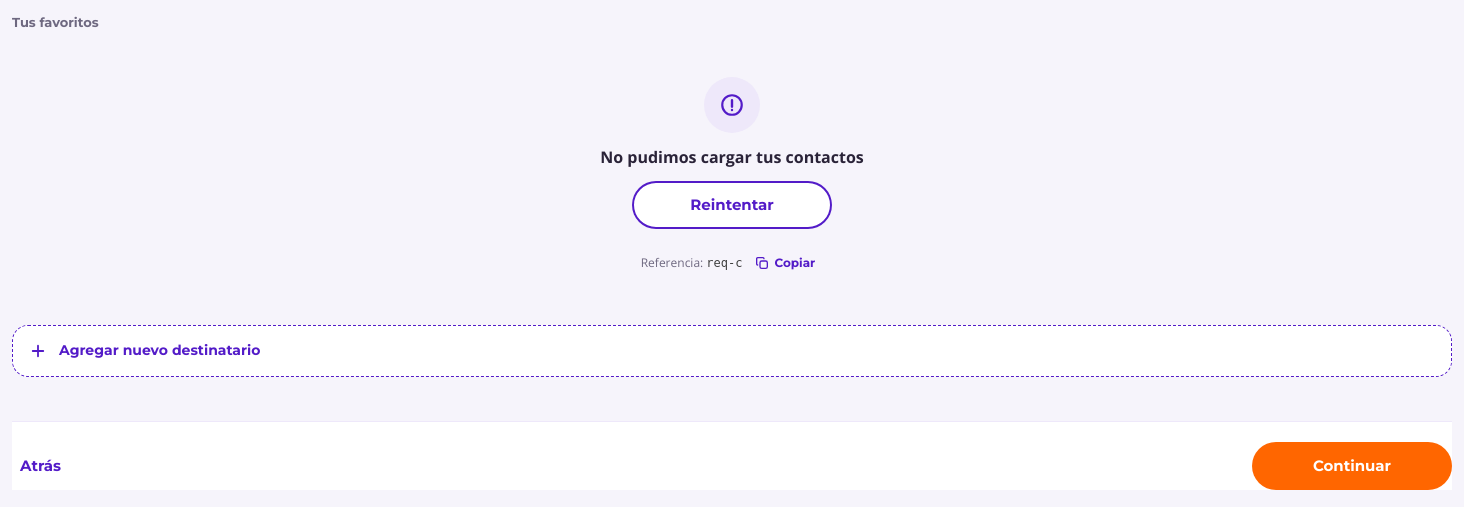
Scenario: RecipientStep › shows the error with its reference and loads the list on retry
Expected: the message shows "No pudimos cargar tus contactos", left=600, top=146, right=864, bottom=168
Expected: the message shows "Referencia: req-c", left=600, top=76, right=864, bottom=284
Click the button "Reintentar" at (732, 204), box left=632, top=180, right=832, bottom=228
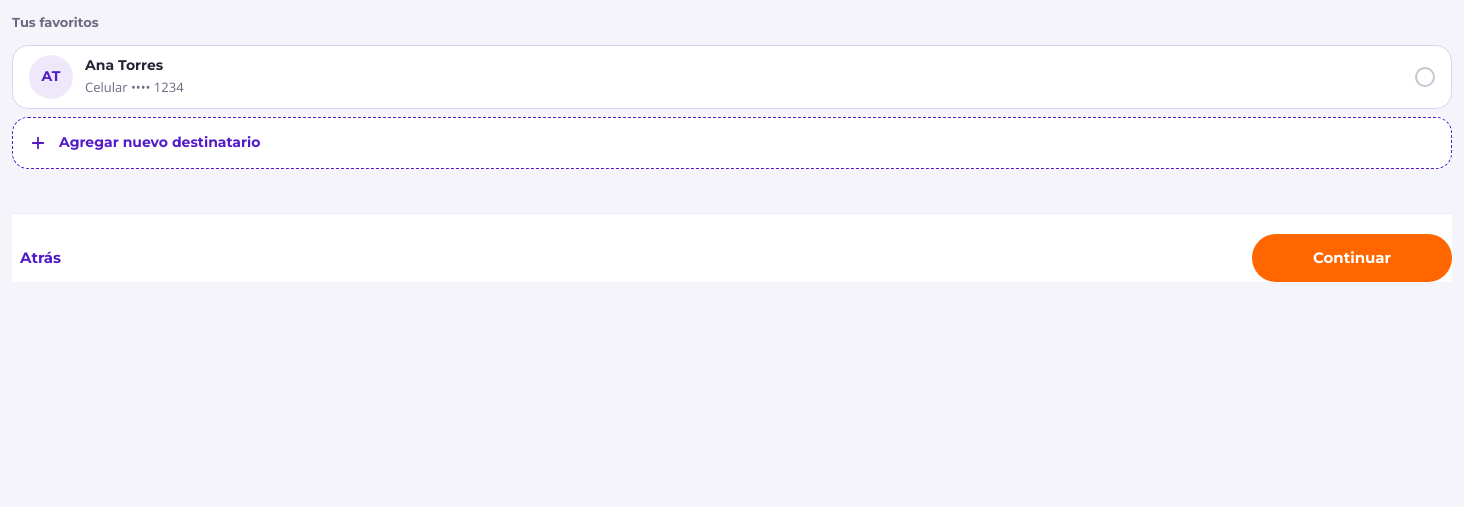
Expected: the radio button labelled "AT Ana Torres Celular •••• 1234" is shown, left=12, top=44, right=1452, bottom=108
